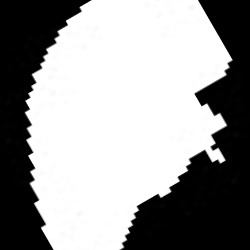spot: (27, 2, 232, 246)
